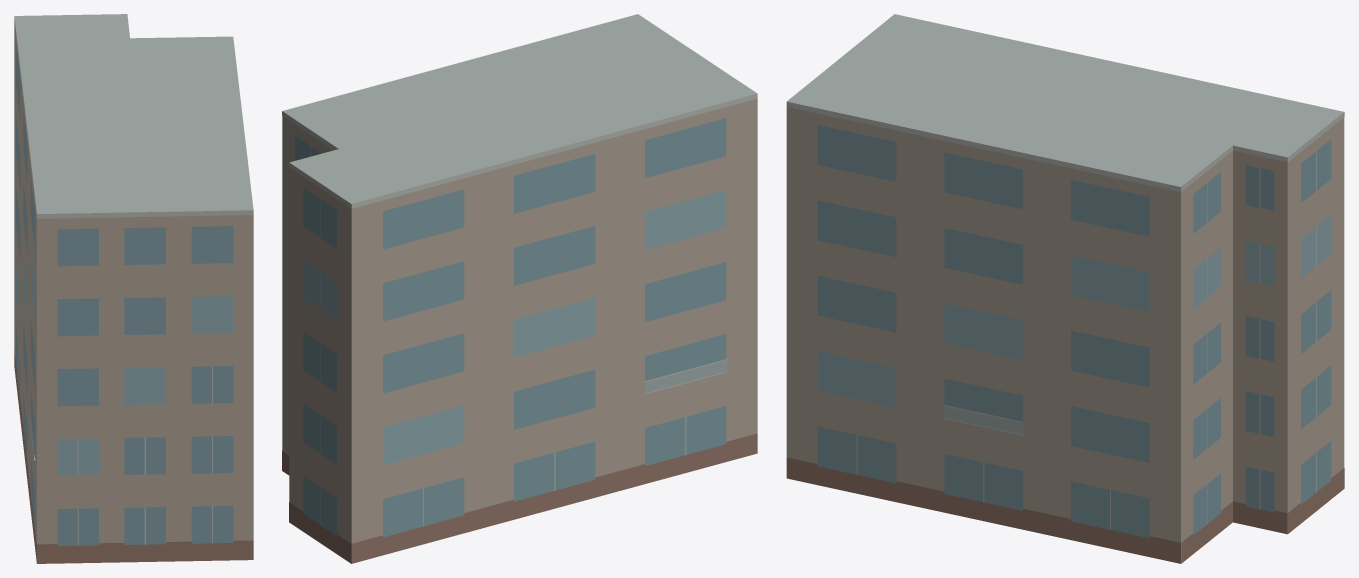
The model's file is survey-upis-33030111.glb.
3 renders of one model, left to right at view 1: azimuth 30°, elevation 25°; view 2: azimuth 150°, elevation 25°; view 3: azimuth 270°, elevation 25°, orthographic. The views are drawn at different scales.
Visible parts, largest first — view 1: survey-upis-33030111.tmp; view 2: survey-upis-33030111.tmp; view 3: survey-upis-33030111.tmp.
Boxes of the visible parts, bbox=[...] form: survey-upis-33030111.tmp: bbox=[14, 14, 253, 563]; survey-upis-33030111.tmp: bbox=[282, 14, 757, 563]; survey-upis-33030111.tmp: bbox=[786, 14, 1344, 563].
Bounding box in the file's own units: 17.69 × 17.95 × 24.09.
